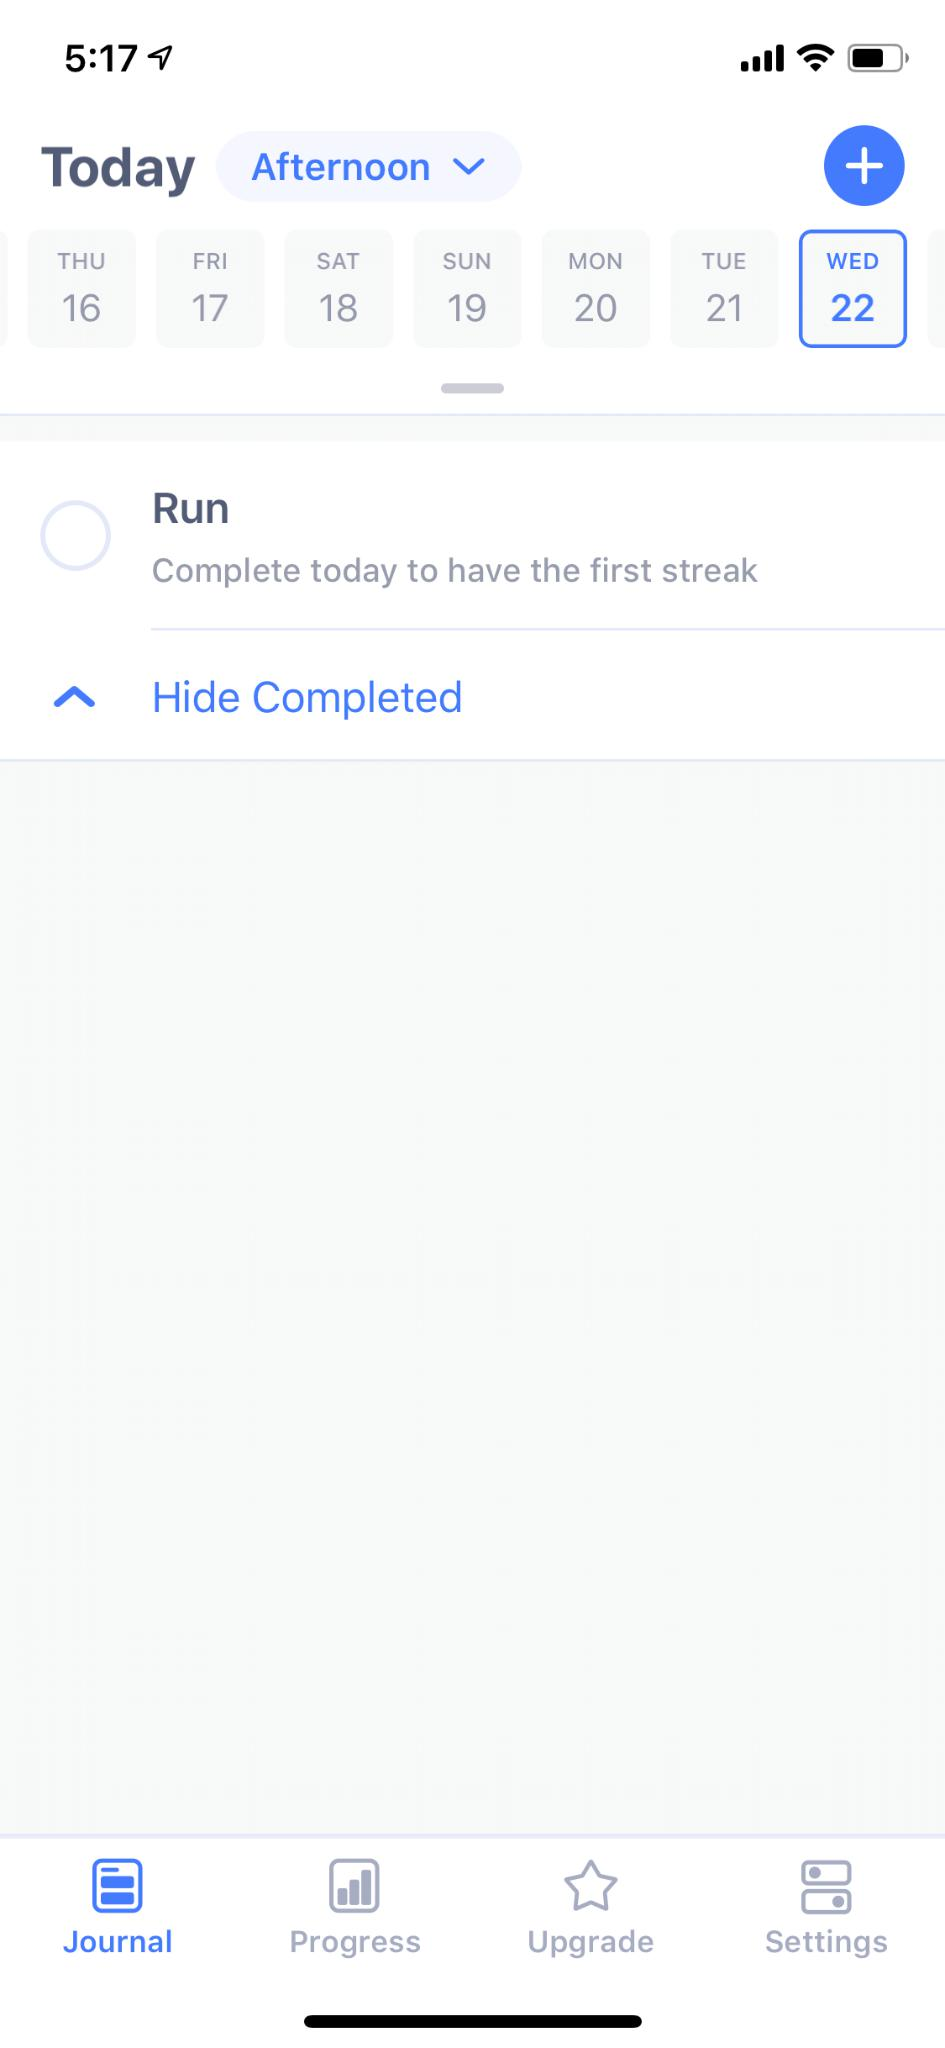Buttons: (37, 658, 475, 735), (211, 121, 522, 216), (821, 119, 905, 205)
Radio buttons: (7, 445, 937, 626)
